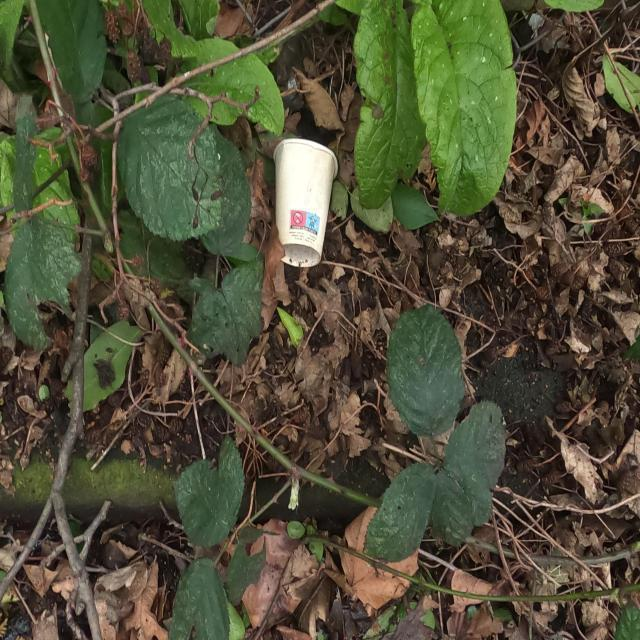Cup: (270, 138, 338, 270)
